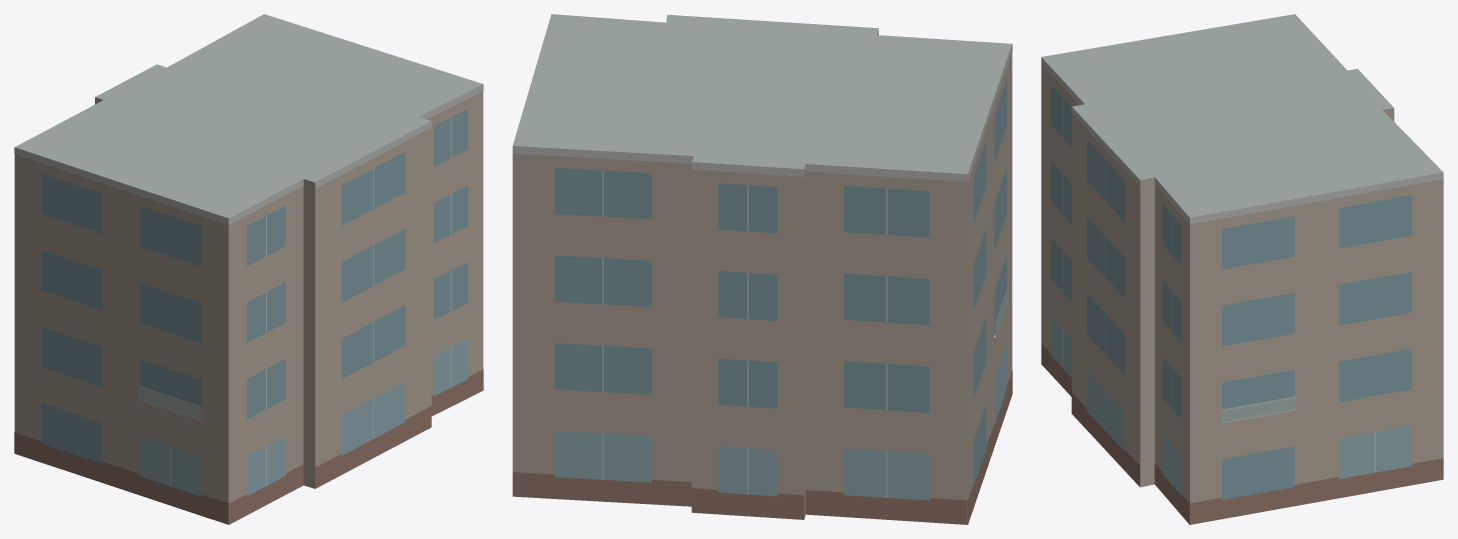
The model's file is survey-upis-32861309.glb.
3 views of the same model, side by side, from view 1: azimuth 30°, elevation 25°; view 2: azimuth 150°, elevation 25°; view 3: azimuth 270°, elevation 25° (orthographic). The views are drawn at different scales.
Visible parts, largest first — view 1: survey-upis-32861309.tmp; view 2: survey-upis-32861309.tmp; view 3: survey-upis-32861309.tmp.
Part boxes in pixels (x1,y1,x2,y2): survey-upis-32861309.tmp: (14,14,483,524); survey-upis-32861309.tmp: (512,14,1012,524); survey-upis-32861309.tmp: (1041,14,1443,524).
Size of the model in its own units: 15.8 by 11.1 by 13.19.
